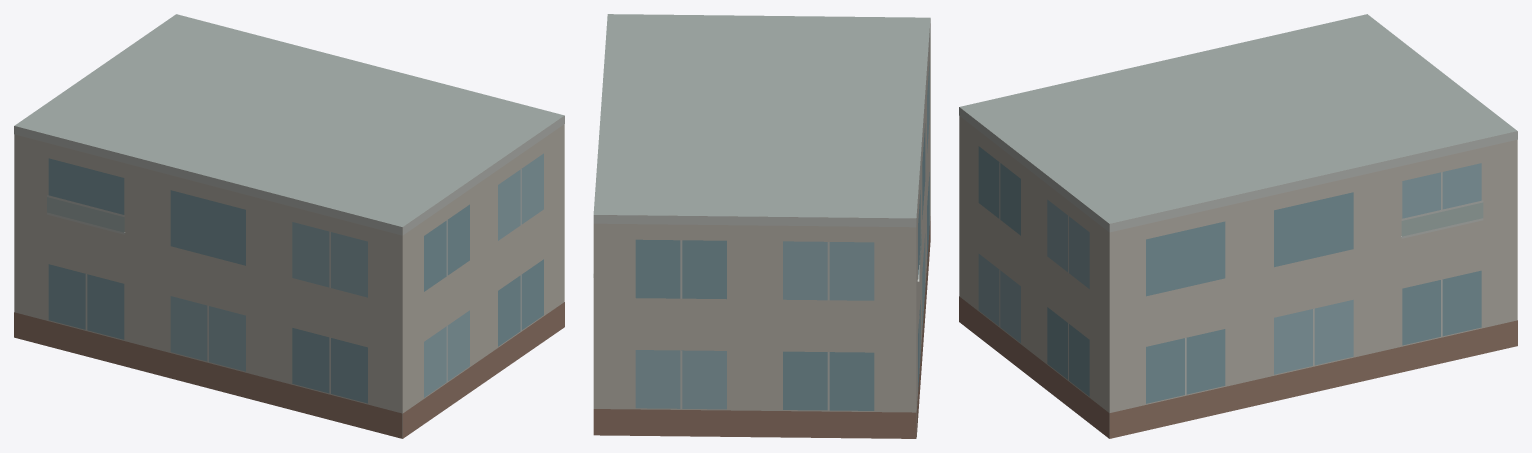
The model's file is survey-upis-32715243.glb.
The picture shows the model from 3 angles, left to right: view 1: azimuth 30°, elevation 25°; view 2: azimuth 150°, elevation 25°; view 3: azimuth 270°, elevation 25°; orthographic projection. The views are drawn at different scales.
Parts seen in each view (by area): view 1: survey-upis-32715243.tmp; view 2: survey-upis-32715243.tmp; view 3: survey-upis-32715243.tmp.
Part boxes in pixels (bbox=[...]): survey-upis-32715243.tmp: bbox=[14, 14, 564, 438]; survey-upis-32715243.tmp: bbox=[593, 14, 930, 438]; survey-upis-32715243.tmp: bbox=[959, 14, 1517, 438].
Bounding box in the file's own units: 12.78 × 6.1 × 14.37.
